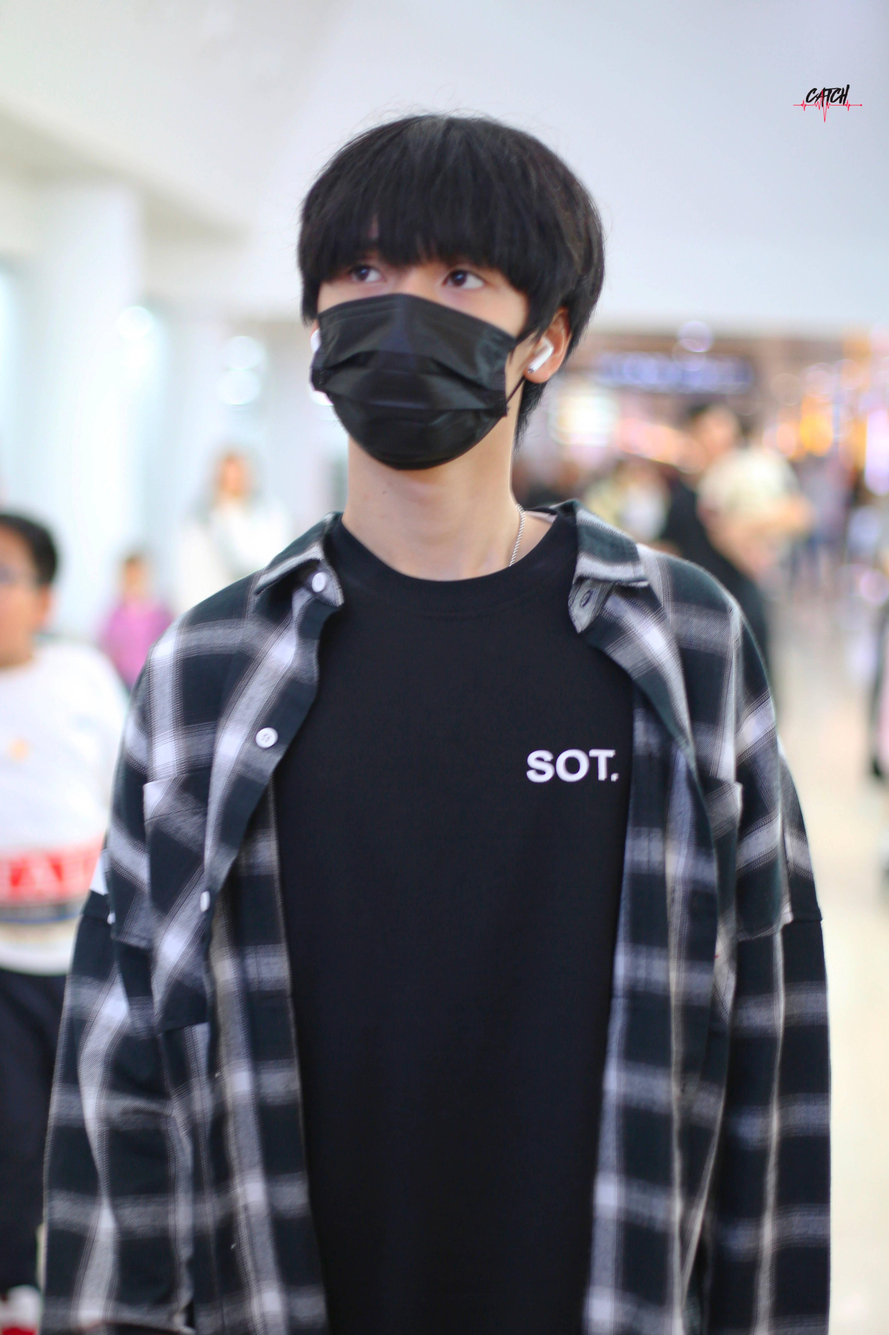OK: (316, 213, 519, 466)
